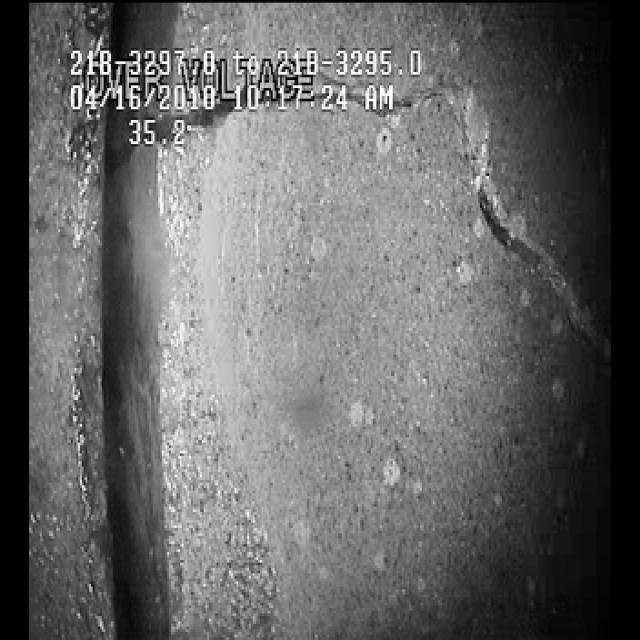Fracture: (441, 60, 583, 332)
